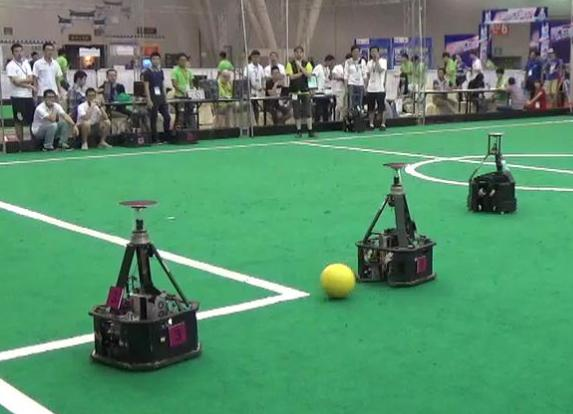robot: (75, 198, 207, 370), (354, 153, 447, 287), (461, 124, 526, 218)
